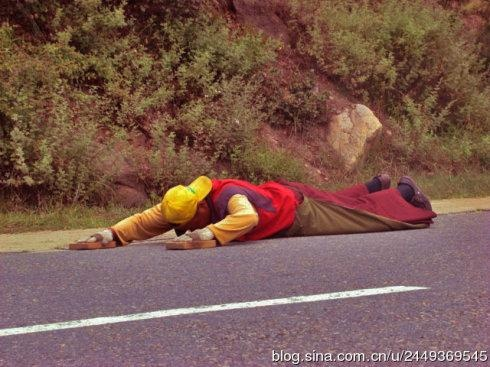falling: (66, 166, 433, 249)
